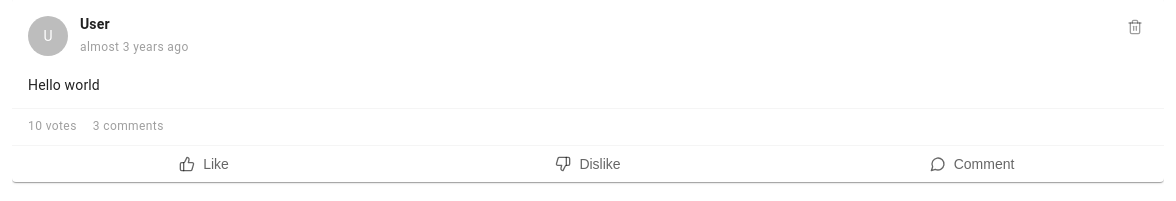
Test: ArticleCard › vote counts › updates vote count optimistically on upvote
Click the button "Like" at (204, 164), box [12, 146, 396, 182]
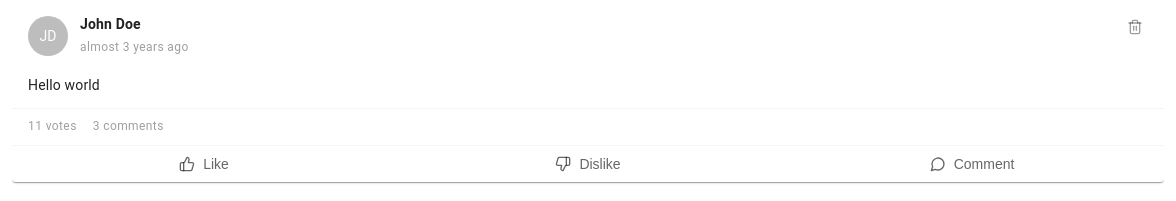
Expected: the text "11 votes" is shown, [28, 117, 77, 137]
